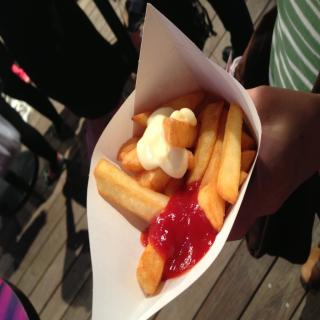French fries: (92, 90, 254, 295)
